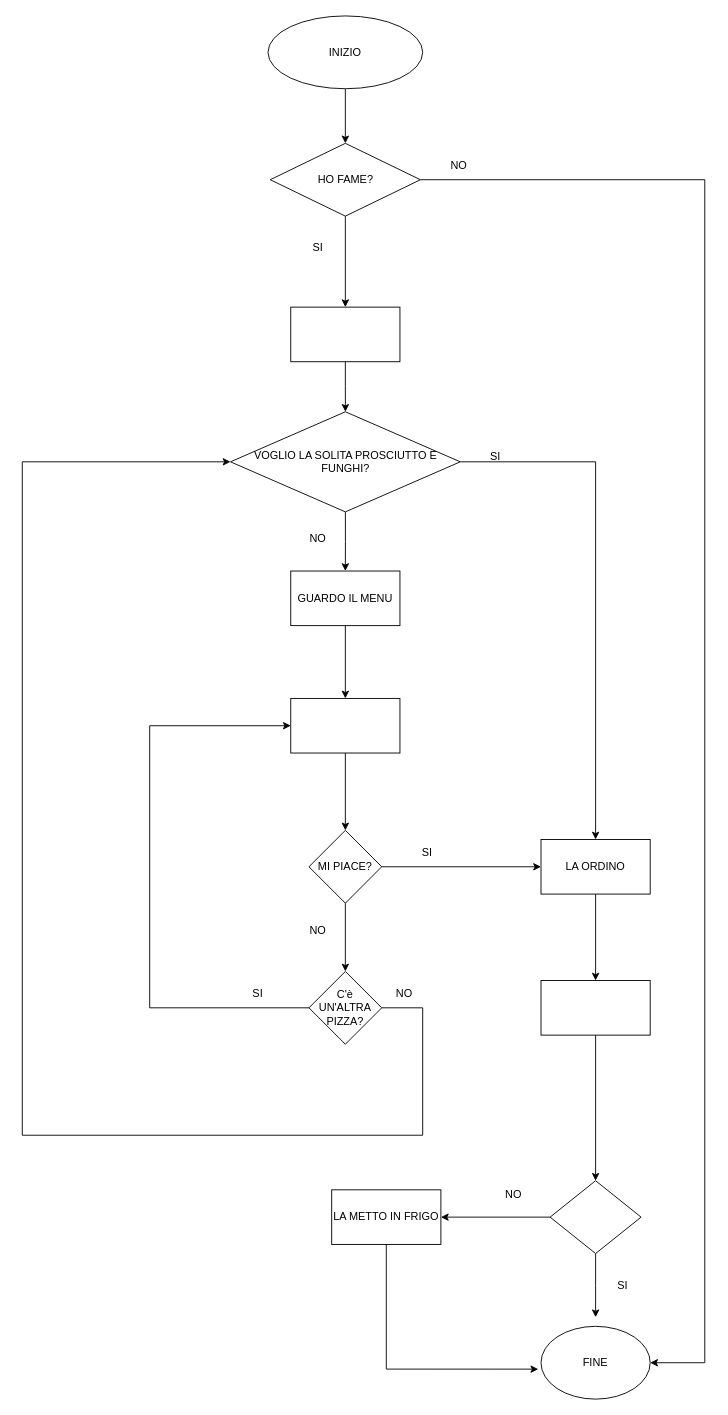
Some shapes in this 728 by 1415 pixel diagram are drawn without their labels. The centre of each missing label's shape, as x and y in pixels:
"GUARDO LA PRIMA PIZZA/SUCCESSIVA" goes at [345,725].
"LA FINISCO?" goes at [595,1217].
"ME LA CONSEGNANO E LA MANGIO" goes at [595,1007].
"VOGLIO UNA PIZZA" goes at [345,334].
